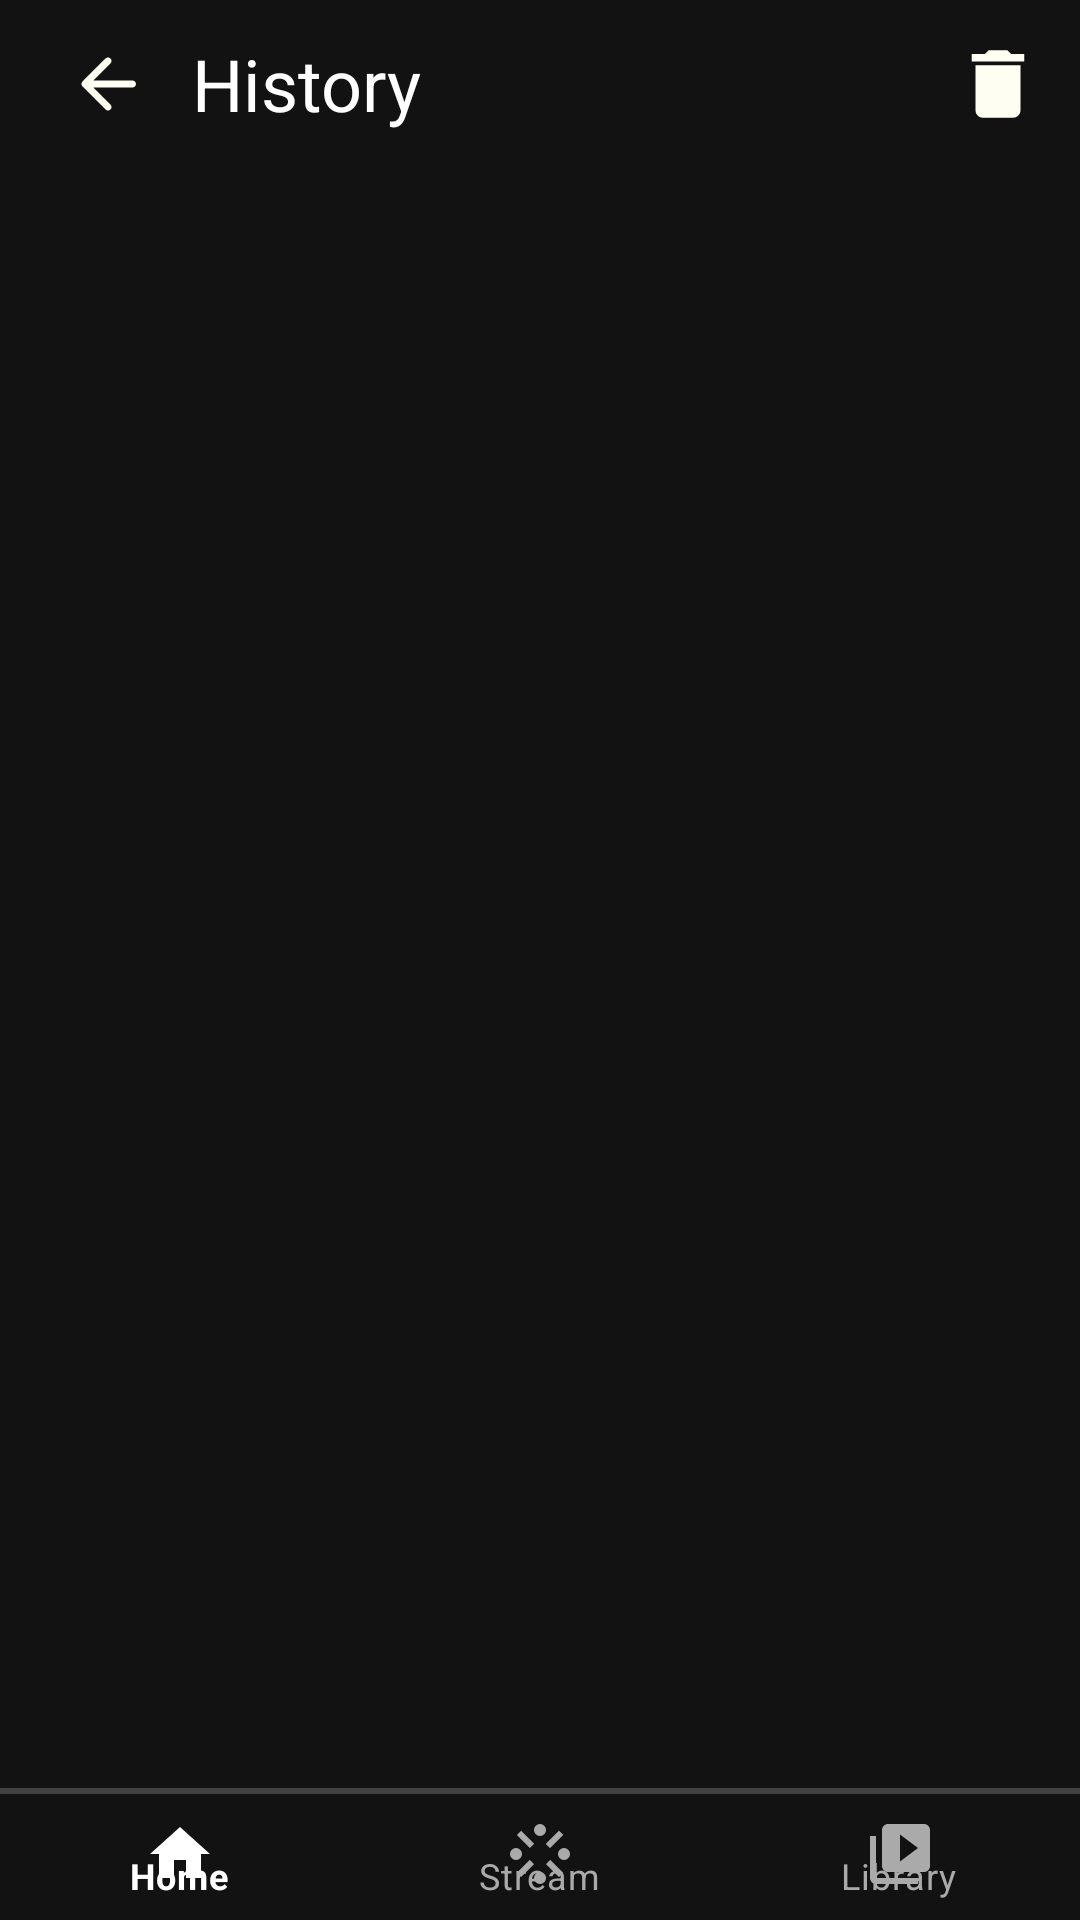

Named icons in this screenshot (1080*1920) and their centers, [x,y]:
delete video: [998,84]
exo back: [108,84]
